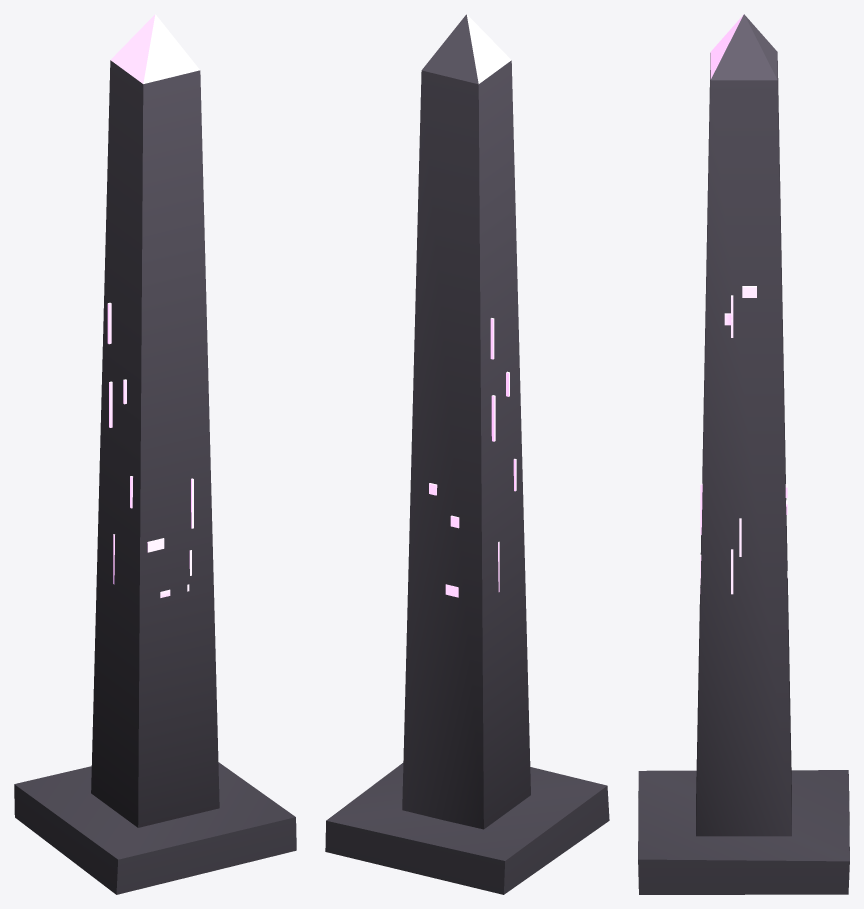
Rendered from obj_obelisco_2.glb.
The picture shows the model from 3 angles, left to right: view 1: azimuth 30°, elevation 25°; view 2: azimuth 150°, elevation 25°; view 3: azimuth 270°, elevation 25°; orthographic projection.
Visible parts, largest first — view 1: propforge-libre-obelisco; view 2: propforge-libre-obelisco; view 3: propforge-libre-obelisco.
Part boxes in pixels (x1,y1,x2,y2): propforge-libre-obelisco: [14, 14, 296, 894]; propforge-libre-obelisco: [325, 14, 609, 894]; propforge-libre-obelisco: [638, 14, 849, 894].
Bounding box in the file's own units: 0.4049 × 1.76 × 0.4039.
